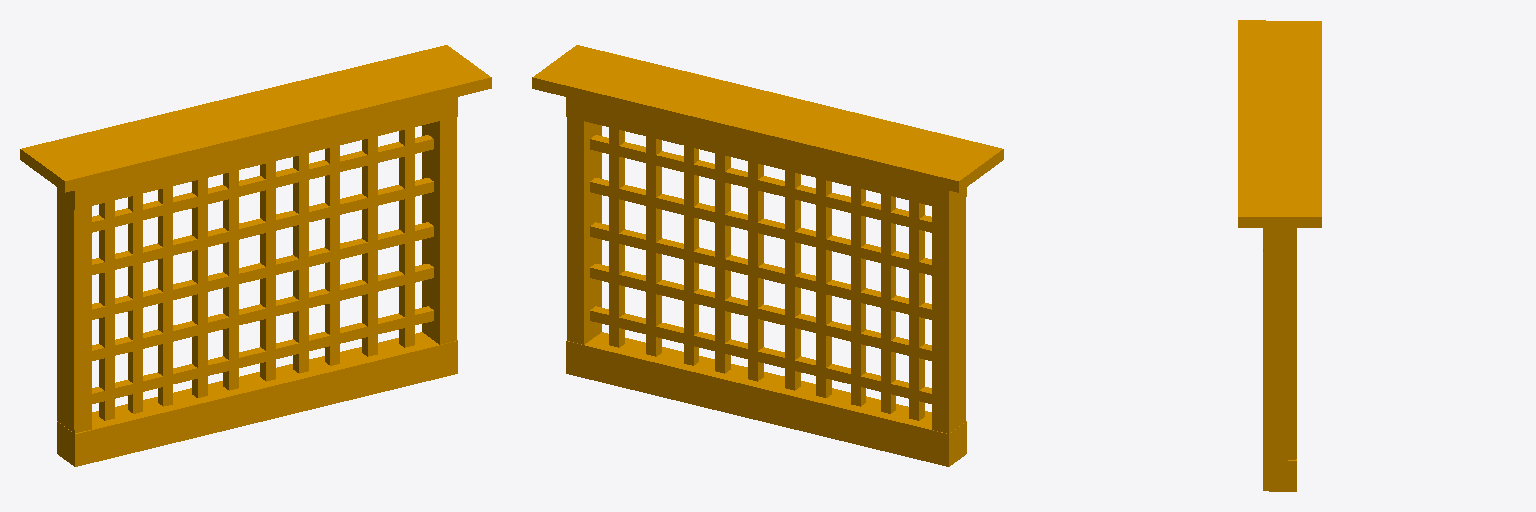
robot.urdf — none:
<robot name="none">
       <link name="none">
           <visual>
               <origin rpy="1.57 0 0" xyz="0 0 0" />
               <geometry>
                   <mesh filename="borderfence-main.obj" />
               </geometry>
           </visual>
          <collision>
              <geometry>
                  <box size="1.000000 0.674641 0.180870" />
              </geometry>
          </collision>

          <inertial>
            <mass value="0.0" />
            <inertia ixx="0.0" ixy="0.0" ixz="0.0" iyy="0.0" iyz="0.0" izz="0.0" />
          </inertial>
      </link>
  </robot>

--- Facts derived from the render (not from the file) ---
The picture shows the robot from 3 angles, left to right: view 1: azimuth 30°, elevation 25°; view 2: azimuth 150°, elevation 25°; view 3: azimuth 270°, elevation 25°; orthographic projection.
Robot: none — 1 links, 0 joints (none); root link none; default pose: all joints at 0.
Links seen in each view (by area): view 1: none; view 2: none; view 3: none.
Boxes of the visible links, bbox=[...] form: none: bbox=[20, 45, 491, 466]; none: bbox=[532, 45, 1003, 466]; none: bbox=[1238, 20, 1321, 491].
Bounding box of the posed robot: 1 × 0.1809 × 0.6747 m (x, y, z).
Meshes: 1 distinct files referenced, 1 mesh visuals loaded (1 OBJ).